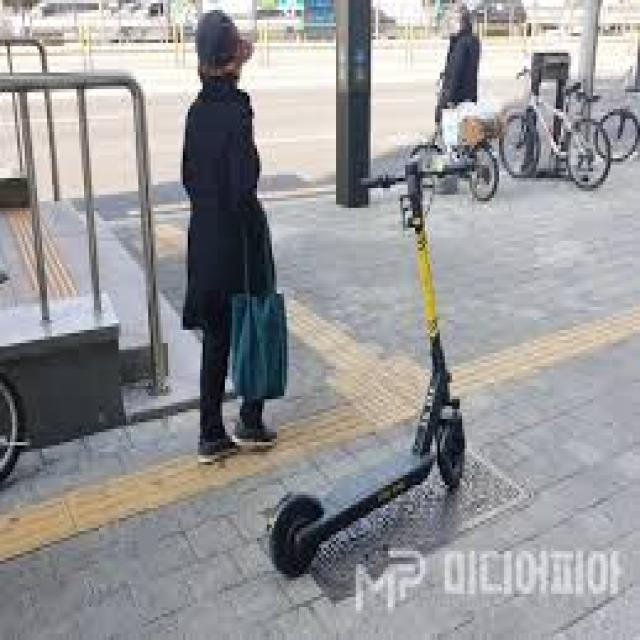kick-board: (270, 160, 463, 575)
lane: (2, 299, 429, 562), (455, 308, 640, 395)
road: (94, 43, 200, 183), (241, 43, 335, 179), (374, 43, 425, 154), (89, 90, 136, 193), (54, 93, 83, 196), (49, 48, 83, 70)
sidewalk: (0, 336, 640, 637), (429, 161, 640, 366), (261, 189, 427, 366), (0, 413, 199, 513)
